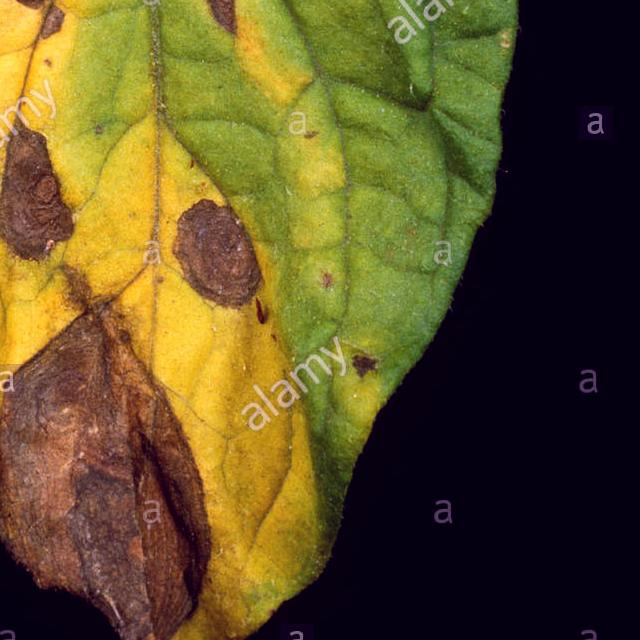Tomato Early blight leaf: (0, 0, 494, 640)
